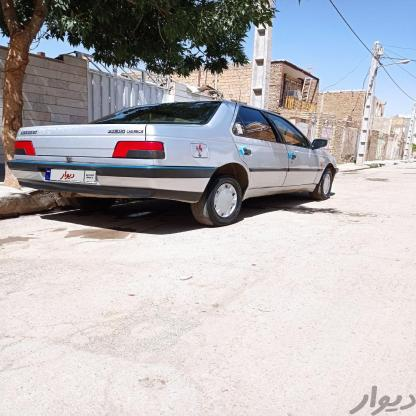Car: (0, 108, 345, 217)
